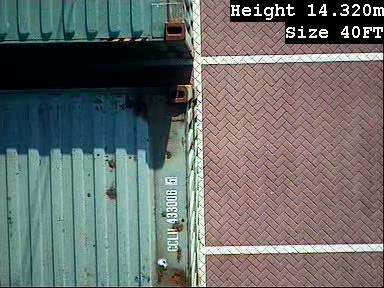groundmarker_2: (89, 177, 166, 233)
